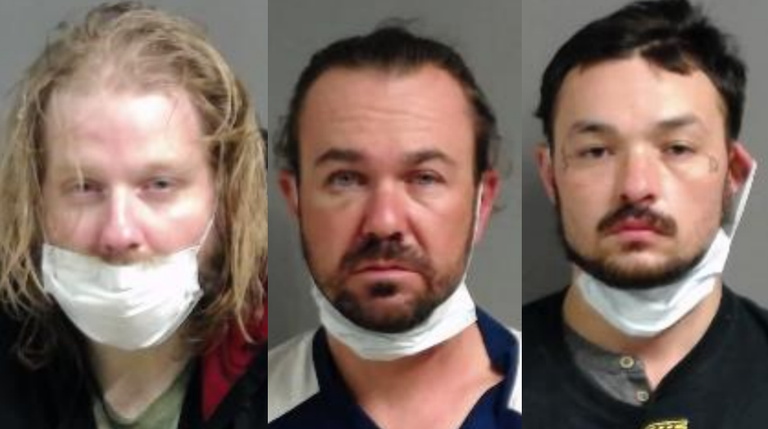mask_weared_incorrect: (275, 70, 504, 363), (20, 60, 234, 353), (529, 65, 751, 347)
